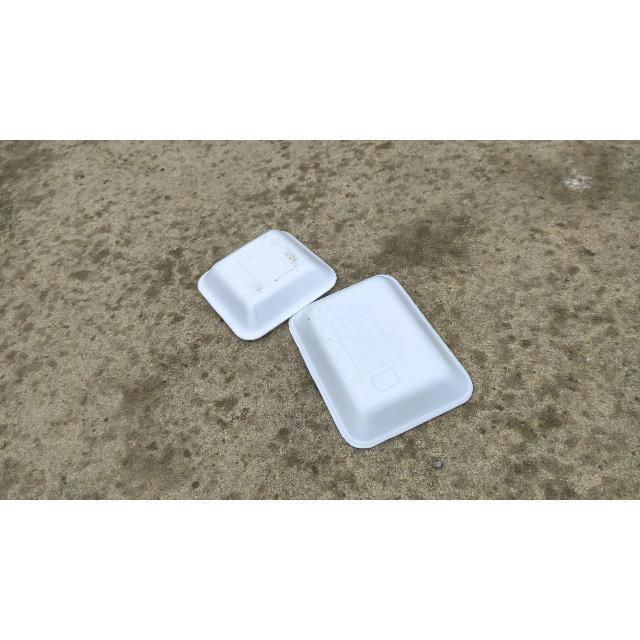Plastico descartable: (288, 275, 475, 452), (197, 230, 338, 343)
